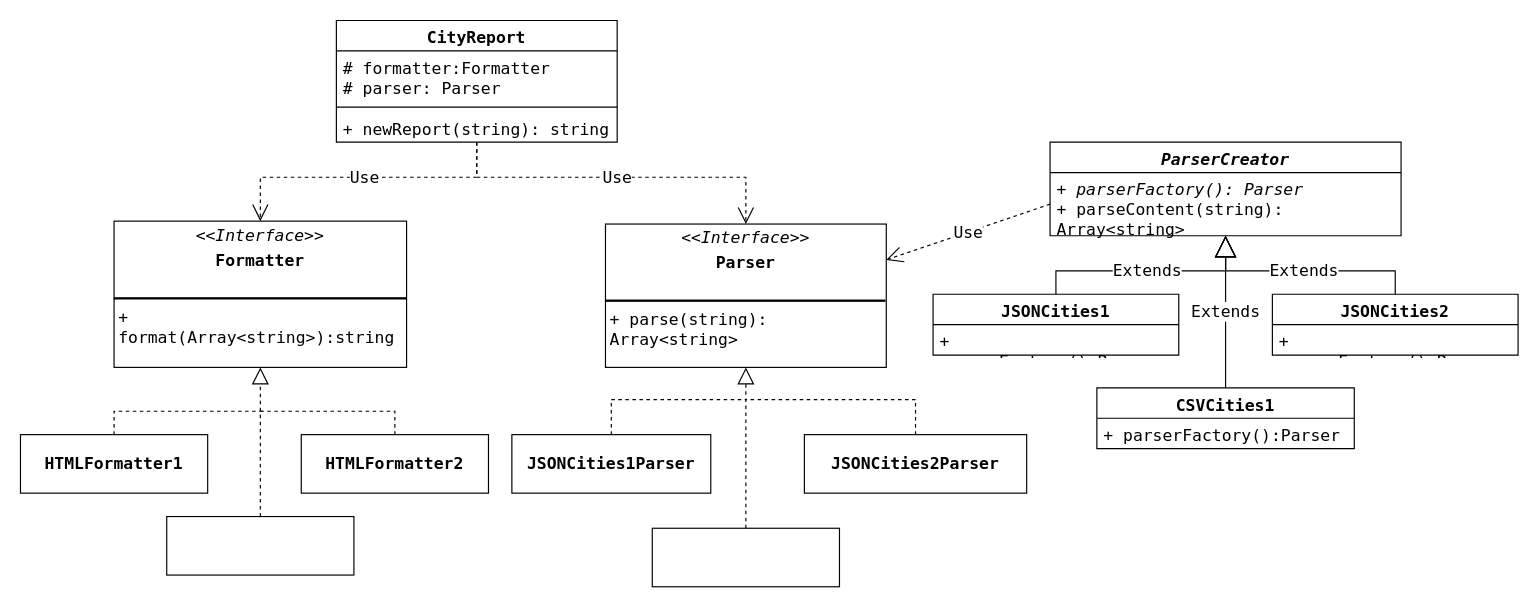
The diagram is 1539 pixels wide and 607 high, and some of its shapes have lost their labels. The centre of each missing label's shape, as x and y in pixels:
CSVCities1Parser: pixel 745 557
TextFormatter1: pixel 260 545
